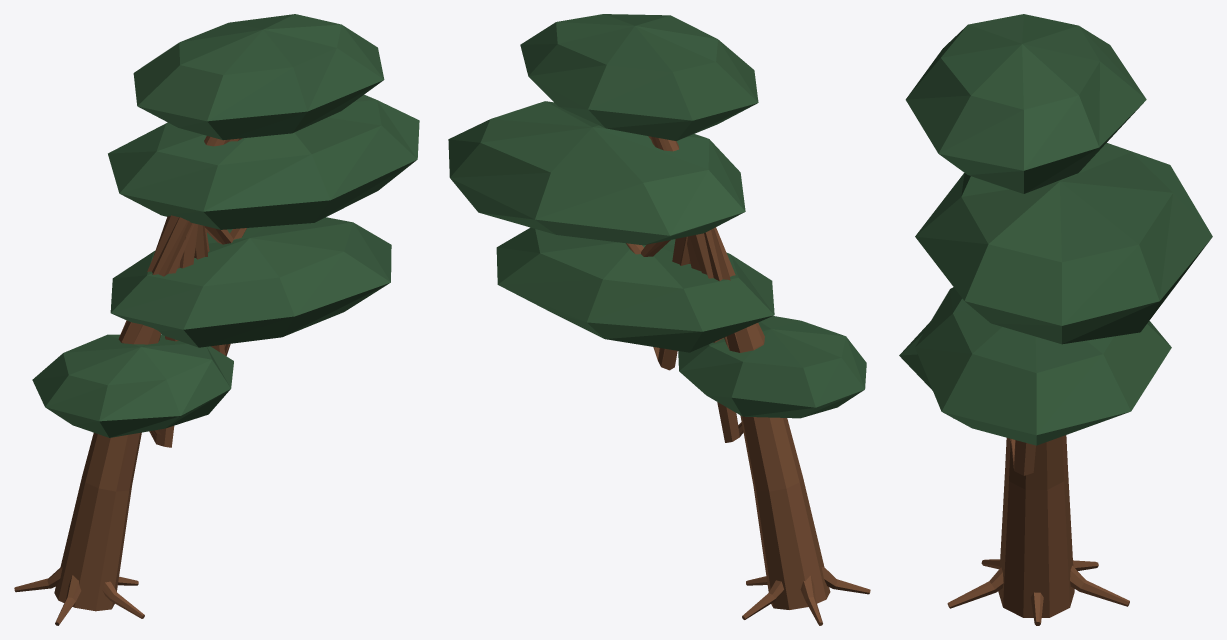
File: Plant_Common_WindsweptPine_001.glb
3 views of the same model, side by side, from view 1: azimuth 30°, elevation 25°; view 2: azimuth 150°, elevation 25°; view 3: azimuth 270°, elevation 25° (orthographic). The views are drawn at different scales.
Parts seen in each view (by area): view 1: Plant_Common_WindsweptPine_001; view 2: Plant_Common_WindsweptPine_001; view 3: Plant_Common_WindsweptPine_001.
Boxes of the visible parts, box(x1,y1,x2,y2) form: Plant_Common_WindsweptPine_001: box(14, 14, 419, 625); Plant_Common_WindsweptPine_001: box(448, 14, 870, 625); Plant_Common_WindsweptPine_001: box(899, 14, 1212, 625).
Bounding box in the file's own units: 4.46 × 5.76 × 2.47.
